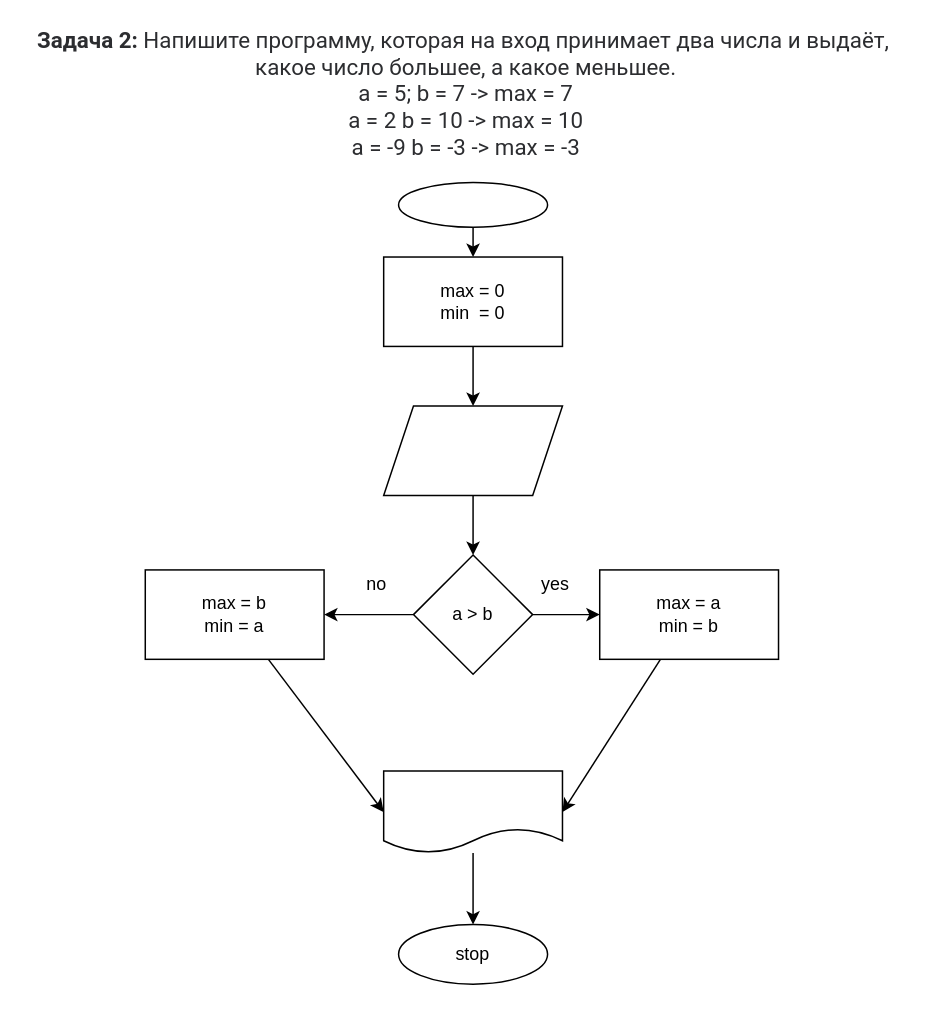
Image size: 930x1010. Some labels were removed from this diagram. Here are the shapes that lost their labels. From the top down, the centre of each, then its label:
At pixel 472 204: "start".
At pixel 472 450: "a b".
At pixel 472 811: "max min".
